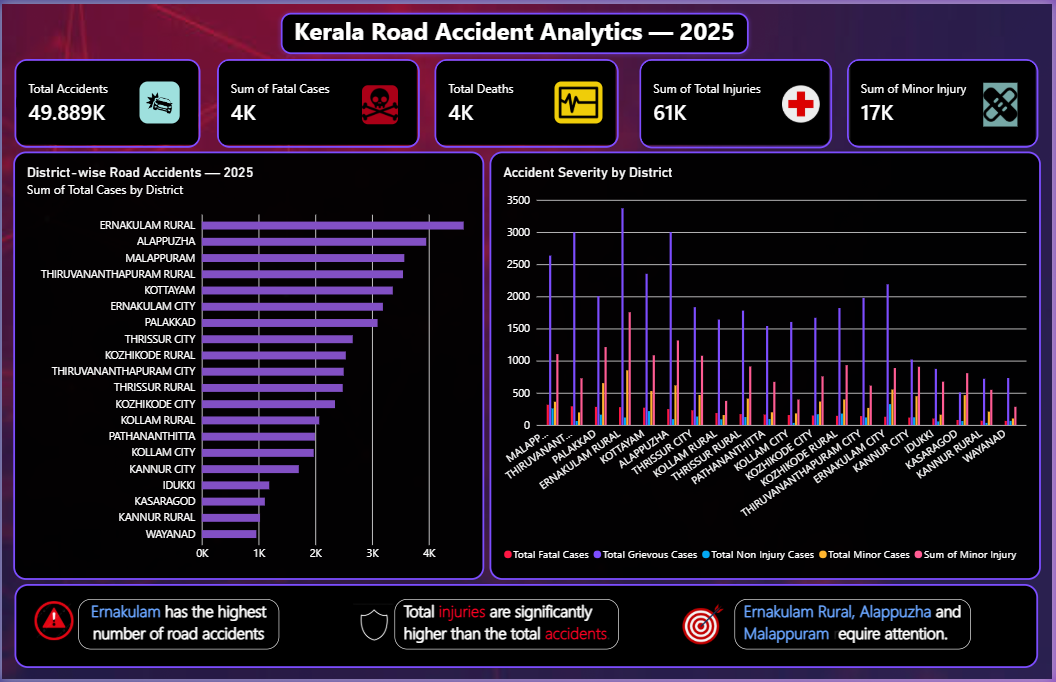

The dashboard page shown, as its layout file describes it:
{"tool":"powerbi","page":{"name":"Kerala Accident Overview","canvas":[1401,900],"ordinal":0},"visuals":[{"type":"cardVisual","fields":{"Data":["Accident_Data.Total Accidents"]},"box":[16,74,248,118],"z":0},{"type":"cardVisual","fields":{"Data":["Accident_Data.Total Deaths"]},"box":[576,74,245.3,118],"z":1000},{"type":"cardVisual","fields":{"Data":["Sum(Accident_Data.Total Injuries)"]},"box":[850,73.3,256.7,118.9],"z":2000},{"type":"cardVisual","fields":{"Data":["Sum(Accident_Data.Fatal Cases)"]},"box":[286,74,270,118],"z":3000},{"type":"clusteredBarChart","title":"District-wise Road Accidents — 2025","fields":{"Category":["Accident_Data.District"],"Y":["Sum(Accident_Data.Total Cases)"]},"box":[15.5,196.4,628.2,570.9],"z":4000},{"type":"clusteredColumnChart","title":"Accident Severity by District","fields":{"Y":["Accident_Data.Total Fatal Cases","Accident_Data.Total Grievous Cases","Accident_Data.Total Non Injury Cases","Accident_Data.Total Minor Cases","Sum(Accident_Data.Minor Injury)"],"Category":["Accident_Data.District"]},"box":[650,196.4,735.5,570.9],"z":5000},{"type":"textbox","box":[371.7,10.8,624.2,55],"z":6000},{"type":"cardVisual","title":"Sum of minro","fields":{"Data":["Sum(Accident_Data.Minor Injury)"]},"box":[1126.7,73.3,255,118.3],"z":8000},{"type":"image","box":[183.3,103.3,53.8,56.2],"z":9000},{"type":"image","box":[480,108.3,48.3,51.7],"z":10000},{"type":"image","box":[736.7,103.3,63.8,56.2],"z":11000},{"type":"image","box":[1040,93.8,50,80],"z":12000},{"type":"image","box":[1308.6,105.7,45.7,58.6],"z":13000},{"type":"textbox","box":[16.7,773.3,1365,111.7],"z":14000},{"type":"textbox","box":[102,793,268,67],"z":15000},{"type":"textbox","box":[523,793,299,67],"z":16000},{"type":"textbox","box":[976.4,792.7,315.5,67.3],"z":17000},{"type":"image","box":[43.1,785.4,52.3,74.6],"z":18000},{"type":"image","box":[872.5,796.2,122.9,60],"z":19000},{"type":"image","box":[467.5,792.5,55,67.5],"z":20006}]}

Visuals, with their boxes in screenshot pixels (x1, y1, x2, y2), scaled from the page's 1401x900 canvas onto the 1056x682 screenshot:
cardVisual - Accident_Data.Total Accidents: BBox(12, 56, 199, 145)
cardVisual - Accident_Data.Total Deaths: BBox(434, 56, 619, 145)
cardVisual - Sum(Accident_Data.Total Injuries): BBox(641, 56, 834, 146)
cardVisual - Sum(Accident_Data.Fatal Cases): BBox(216, 56, 419, 145)
"District-wise Road Accidents — 2025" clusteredBarChart: BBox(12, 149, 485, 581)
"Accident Severity by District" clusteredColumnChart: BBox(490, 149, 1044, 581)
textbox: BBox(280, 8, 751, 50)
"Sum of minro" cardVisual: BBox(849, 56, 1041, 145)
image: BBox(138, 78, 179, 121)
image: BBox(362, 82, 398, 121)
image: BBox(555, 78, 603, 121)
image: BBox(784, 71, 822, 132)
image: BBox(986, 80, 1021, 125)
textbox: BBox(13, 586, 1041, 671)
textbox: BBox(77, 601, 279, 652)
textbox: BBox(394, 601, 620, 652)
textbox: BBox(736, 601, 974, 652)
image: BBox(32, 595, 72, 652)
image: BBox(658, 603, 750, 649)
image: BBox(352, 601, 394, 652)
